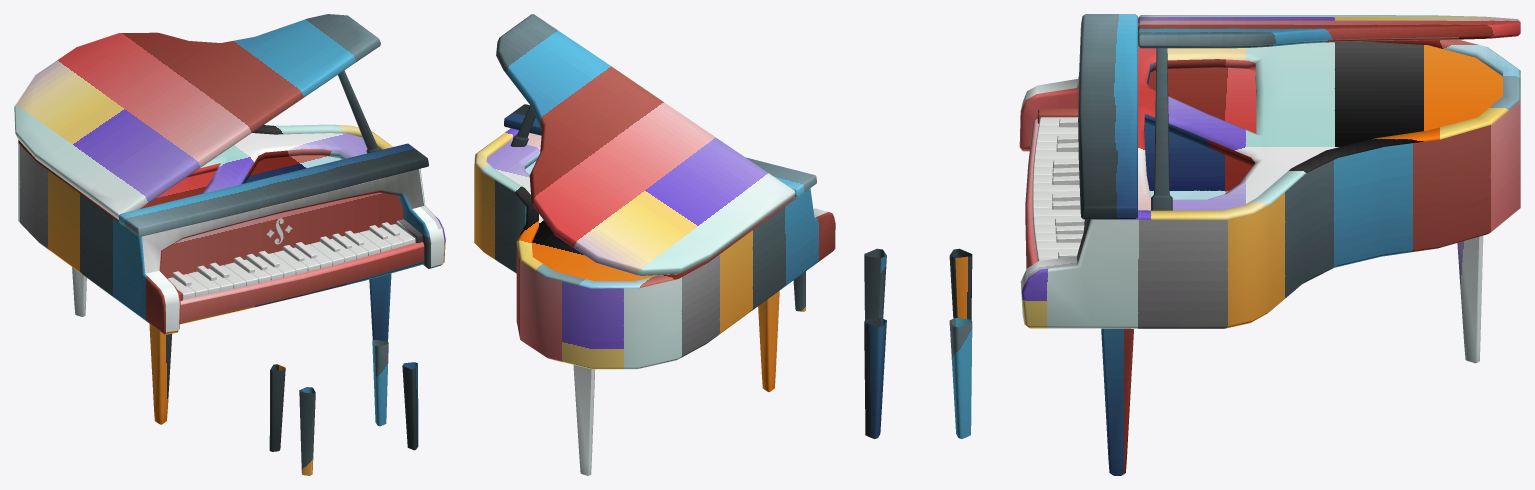
The model's file is Prop_AP23PianoBasic.glb.
3 renders of one model, left to right at view 1: azimuth 30°, elevation 25°; view 2: azimuth 150°, elevation 25°; view 3: azimuth 270°, elevation 25°, orthographic. The views are drawn at different scales.
Parts seen in each view (by area): view 1: Prop_AP23PianoBasic; view 2: Prop_AP23PianoBasic; view 3: Prop_AP23PianoBasic.
Part boxes in pixels (x1=…): Prop_AP23PianoBasic: x1=14, y1=14, x2=445, y2=475; Prop_AP23PianoBasic: x1=474, y1=14, x2=835, y2=475; Prop_AP23PianoBasic: x1=864, y1=14, x2=1520, y2=475.
Bounding box in the file's own units: 1.28 × 1.37 × 1.83.
Materials: 1 (1 with a texture image).
